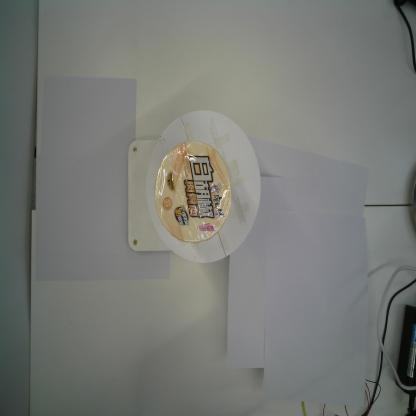Instant Noodles: (154, 140, 232, 246)
